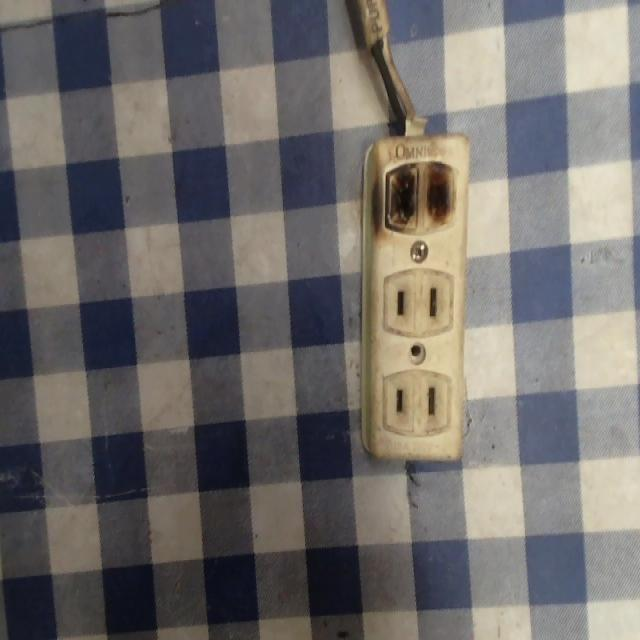-: (380, 158, 454, 234)
